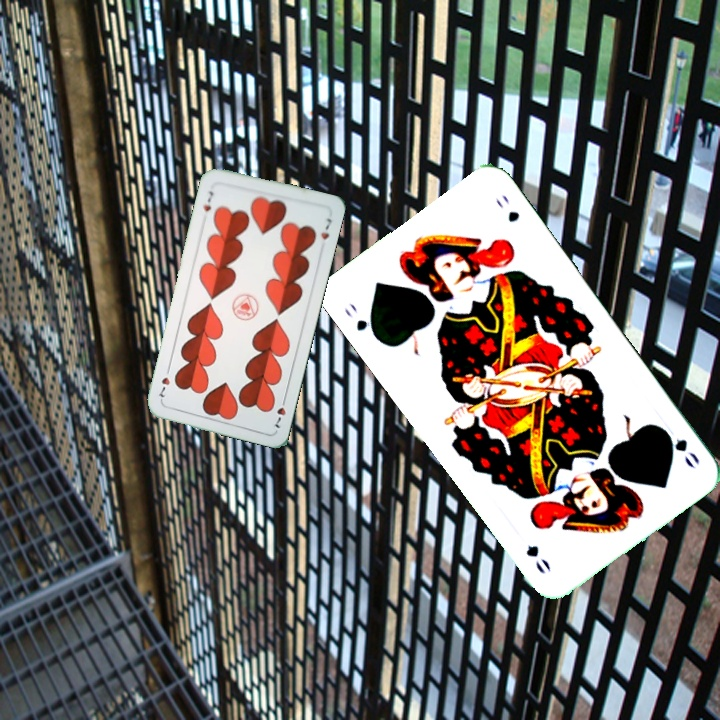GO: (656, 422, 703, 471), (339, 298, 382, 344)
H7: (269, 392, 289, 431), (199, 187, 216, 214)
